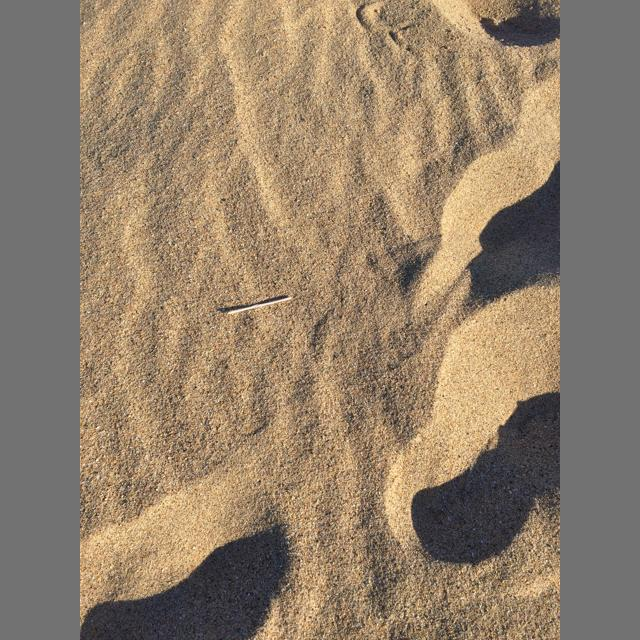litter: (228, 297, 292, 315)
